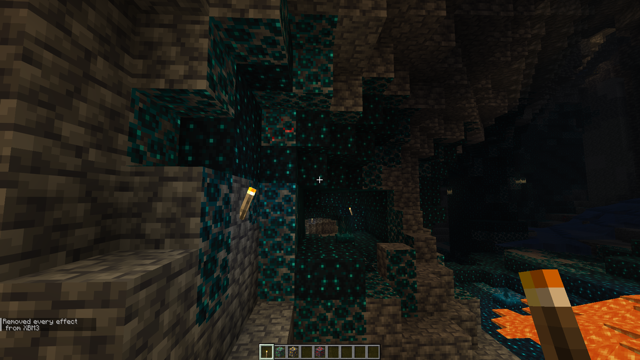redstone: (261, 106, 297, 148)
